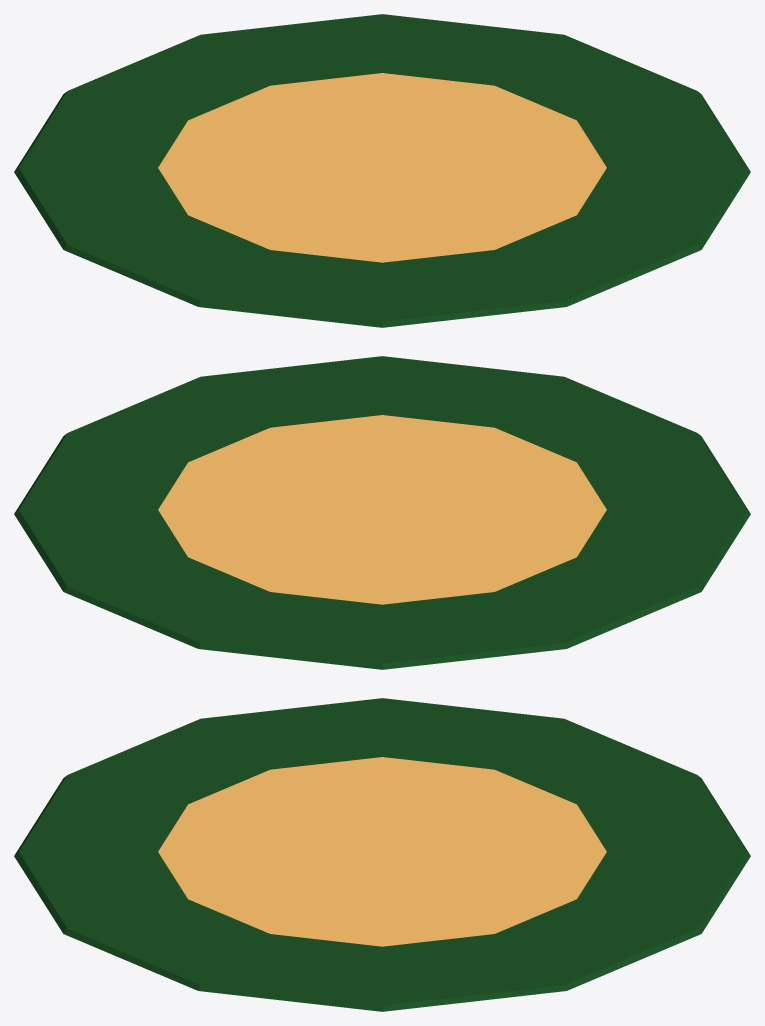
Rendered from Carpet_2B.fbx.
3 renders of one model, top to bottom at view 1: azimuth 30°, elevation 25°; view 2: azimuth 150°, elevation 25°; view 3: azimuth 270°, elevation 25°, orthographic.
Visible parts, largest first — view 1: pCylinder195; view 2: pCylinder195; view 3: pCylinder195.
Boxes of the visible parts, x1=… form: pCylinder195: x1=14, y1=14, x2=750, y2=327; pCylinder195: x1=14, y1=356, x2=750, y2=669; pCylinder195: x1=14, y1=698, x2=750, y2=1011.
Bounding box in the file's own units: 203 × 1.3 × 203.
